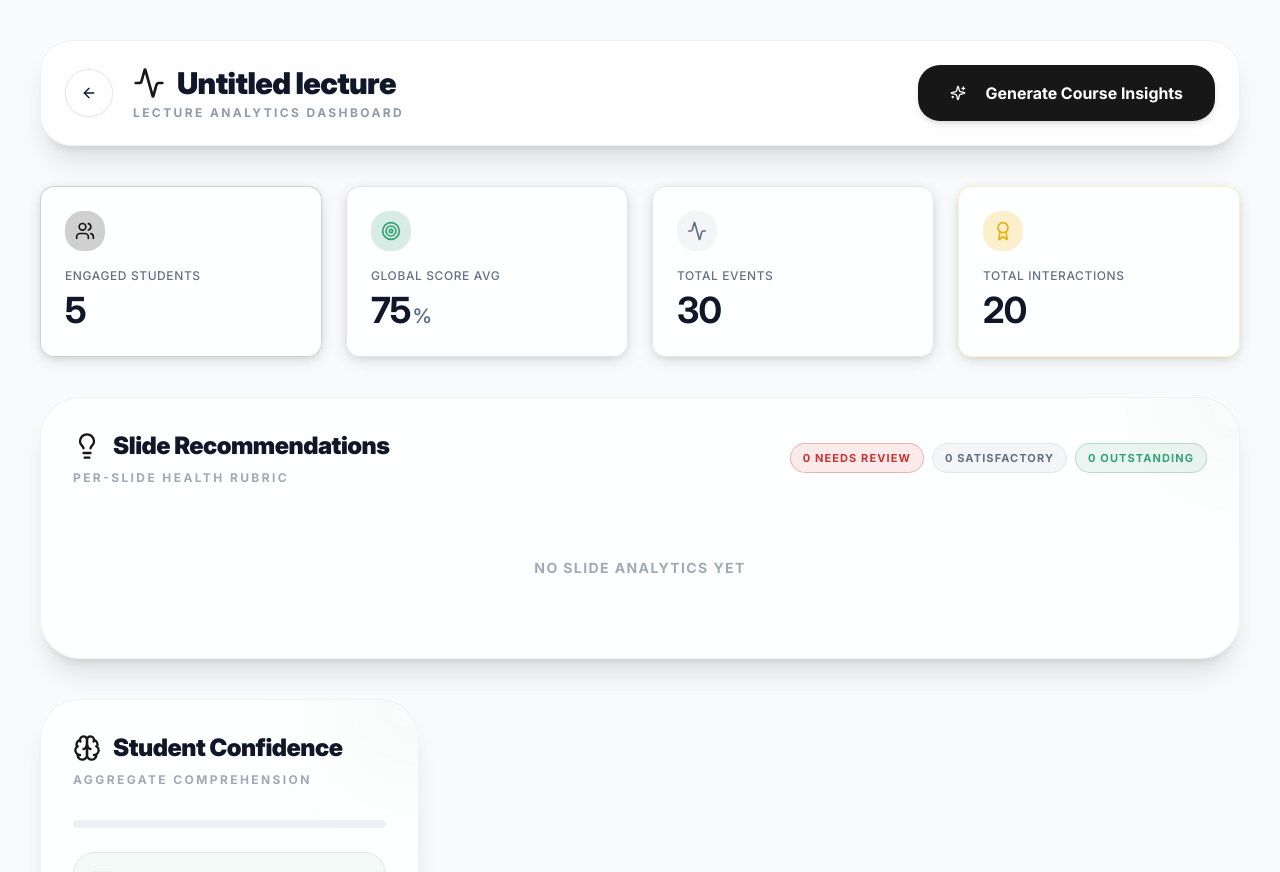
Test case: AdvancedAnalytics — AI insights failure (R2) › retries and renders the real AI summary once the retry succeeds
What coordinates should you click on to do the following:
click the button "Generate Course Insights"
I would click on:
 (1066, 93)
Its box is [918,65,1215,121].
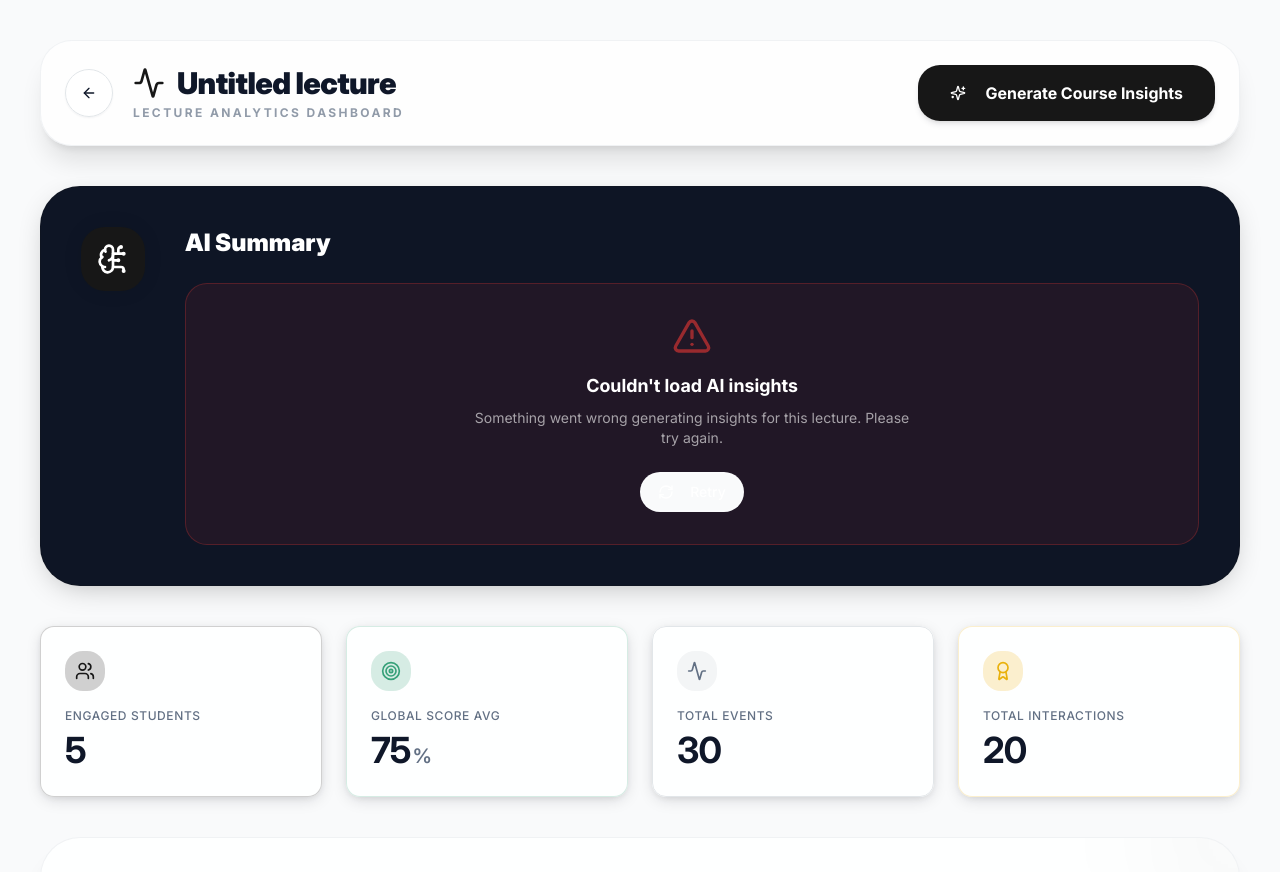
What coordinates should you click on to do the following:
click the button with test id "ai-insights-retry"
I would click on:
 (692, 492)
Its box is [640,472,744,512].
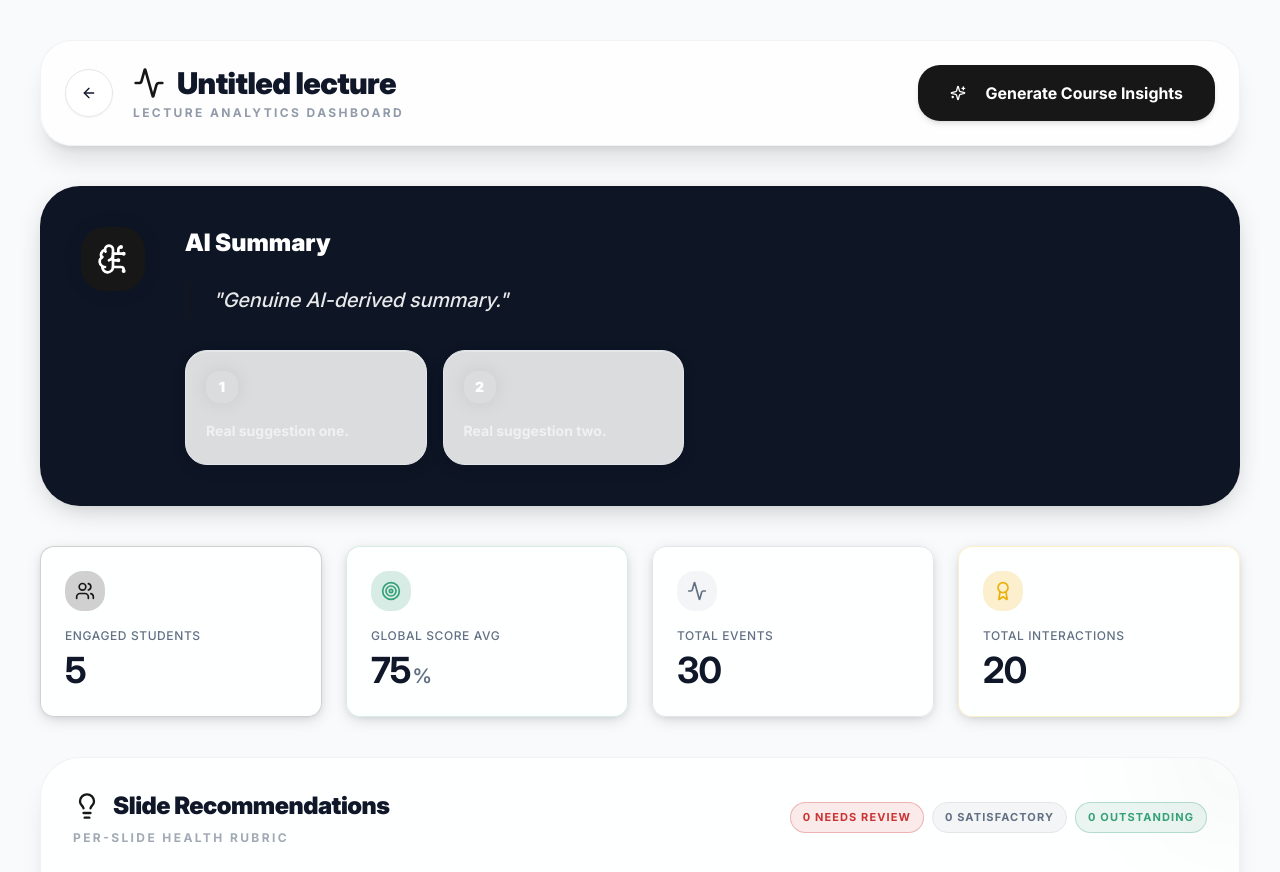
Now the text "\"Genuine AI-derived summary.\"" is shown, box [185,283,1199,318]
